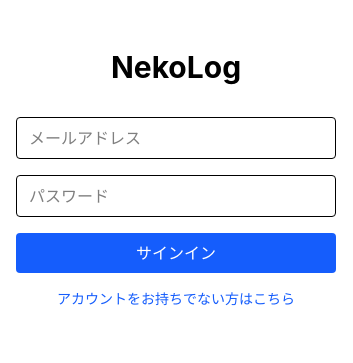
LoginPage › should display error on sign-in failure
The width and height of the screenshot is (353, 363).
Type "test@example.com" into the field with placeholder "メールアドレス" at (176, 138), box [16,117,336,159]
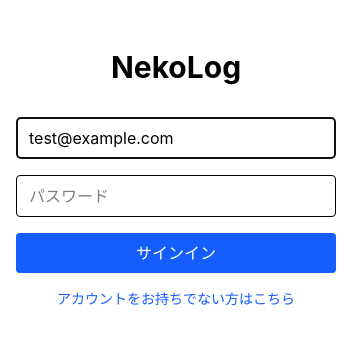
Type "wrong" into the password field with placeholder "パスワード" at (176, 196), box [16,175,336,217]
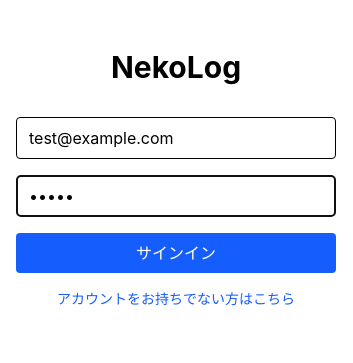
Click the button "サインイン" at (176, 253), box [16,233,336,273]
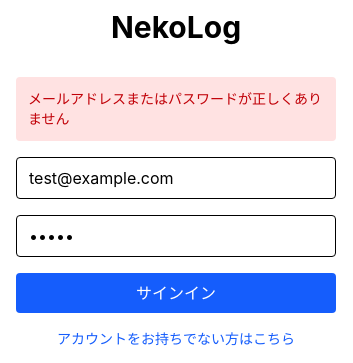
Result: the message reads "メールアドレスまたはパスワードが正しくありません" at [28,90,322,127]
